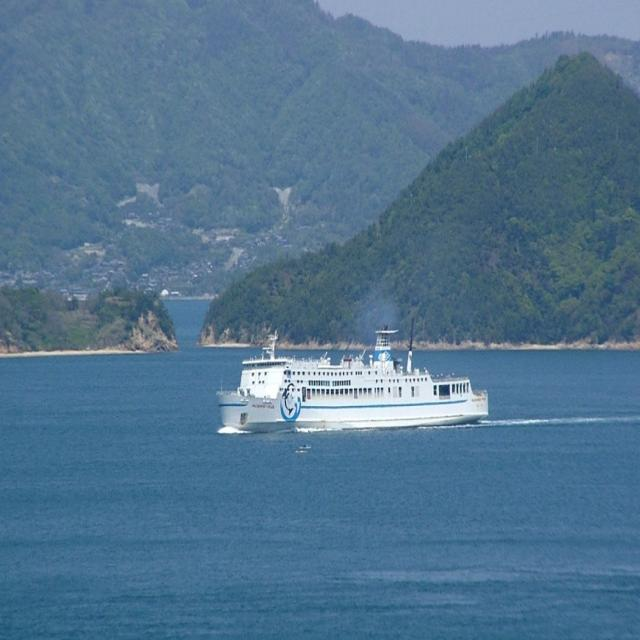passenger ship: (225, 329, 478, 454)
